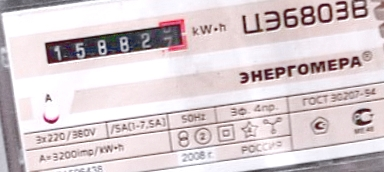1: (52, 44, 64, 63)
2: (139, 31, 152, 49)
5: (73, 41, 87, 59)
7: (161, 34, 174, 48)
8: (95, 38, 108, 56), (118, 35, 130, 52)
screen: (36, 15, 195, 70)
